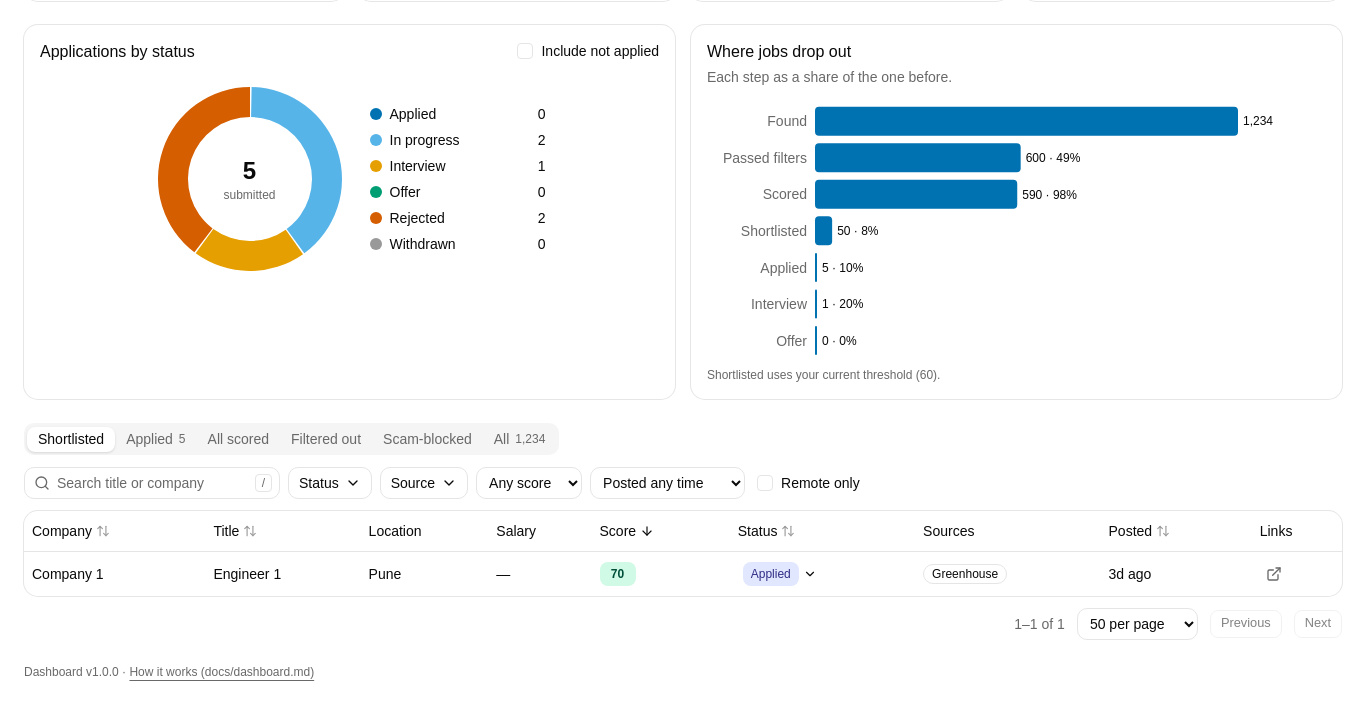
it: StatusSelect › asks before a move back, and Cancel sends nothing
(page scrolled)
Click the button with aria-label "Status: Applied. Change status" at (780, 574), box [738, 560, 822, 588]
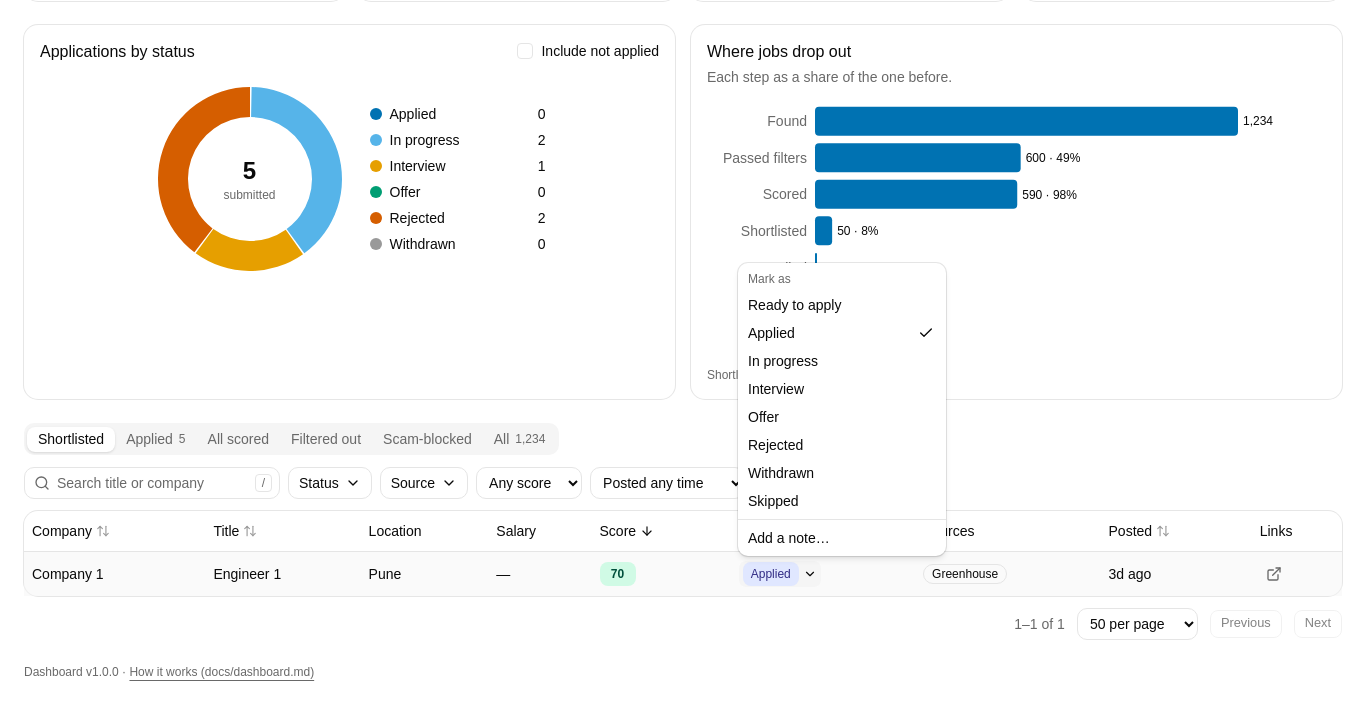
Click the menu item "Ready to apply" at (795, 305), box [748, 297, 841, 313]
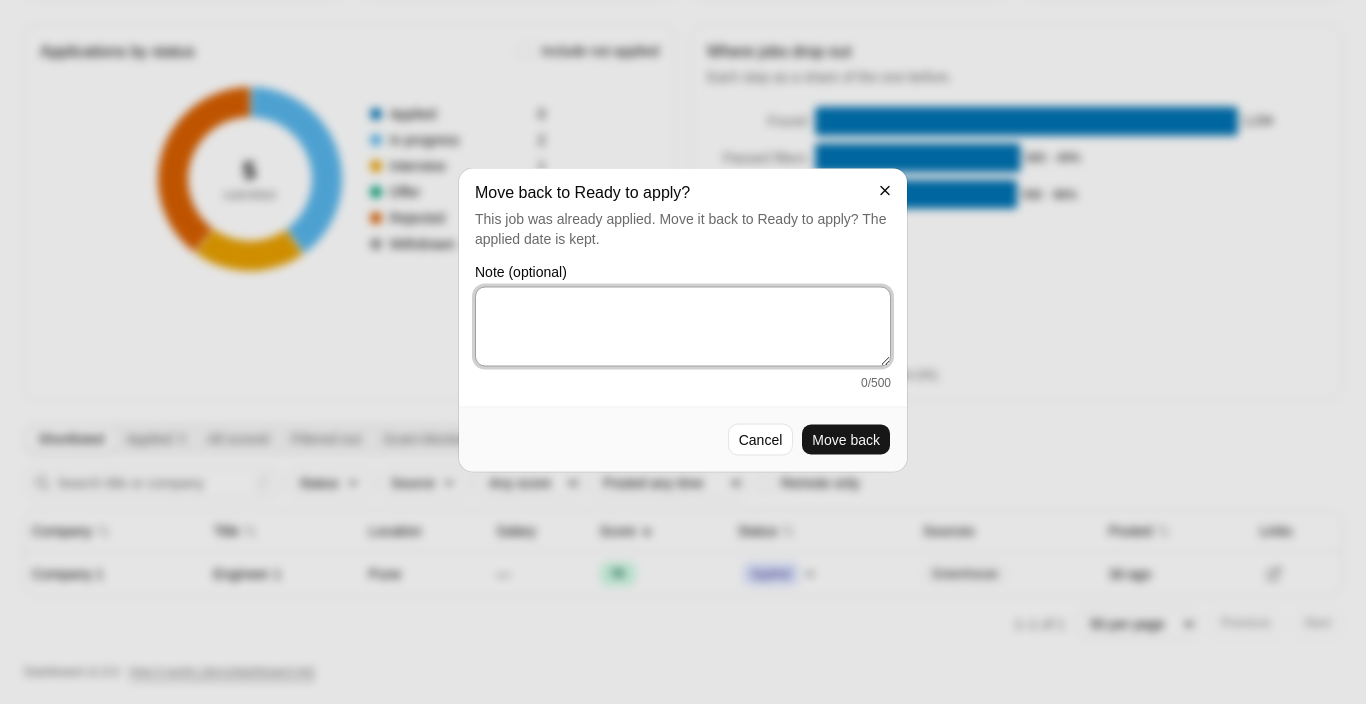
Expected: the dialog "Move back to Ready to apply?" shows "This job was already applied. Move it back to Ready to apply? The applied date is kept.", [475, 210, 886, 246]
Click the button "Cancel" at (760, 440), box [728, 424, 793, 456]
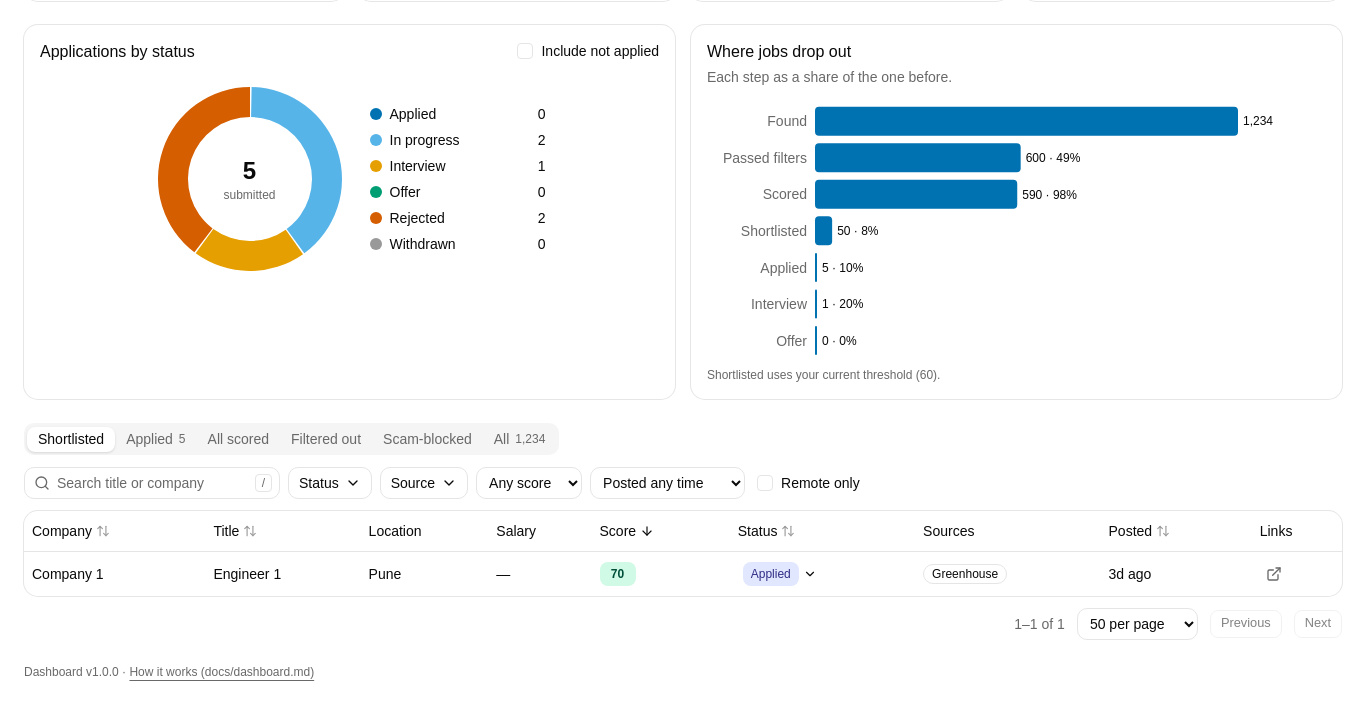
Expected: the button with aria-label "Status: Applied. Change status" is shown, [738, 560, 822, 588]
Expected: the dialog is gone
